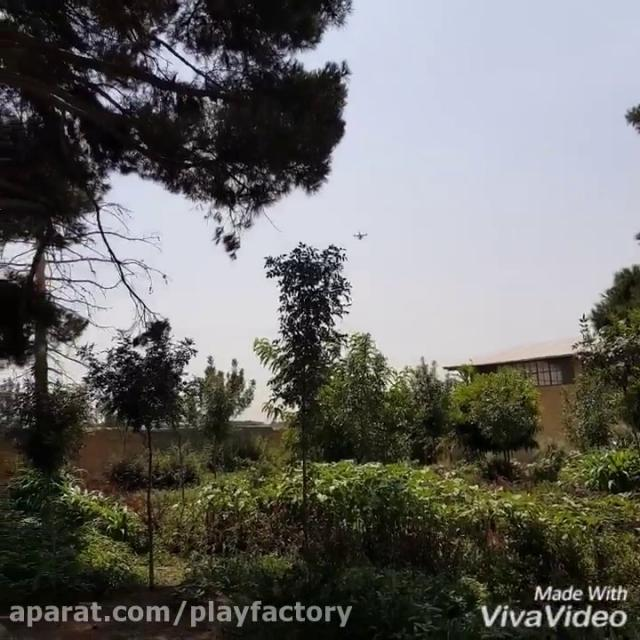drone: (350, 224, 372, 244)
